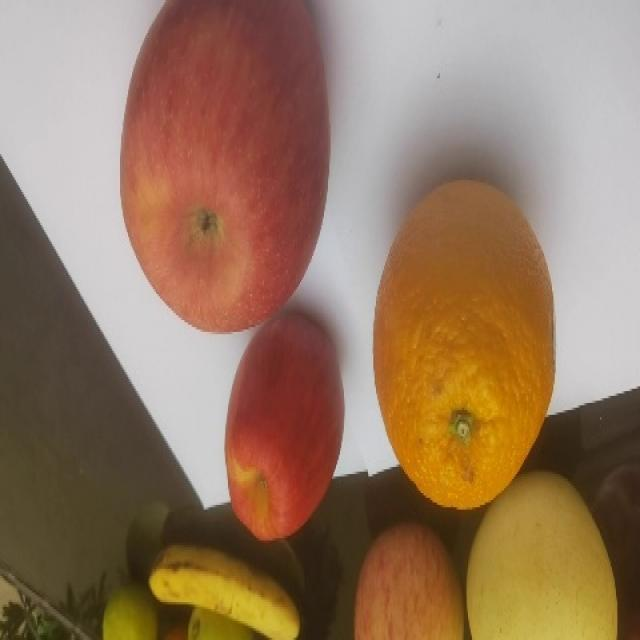Apple: (118, 0, 331, 333), (224, 310, 345, 541), (353, 520, 466, 639)
Orange: (372, 177, 556, 510)
